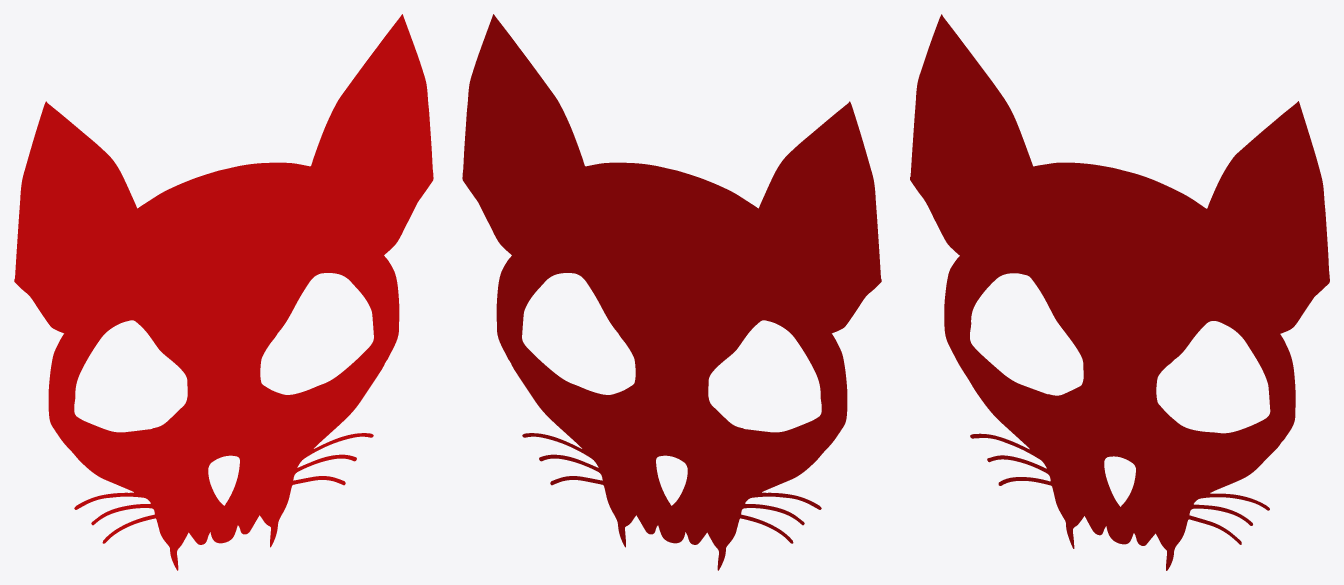
The model's file is virus.glb.
The picture shows the model from 3 angles, left to right: view 1: azimuth 30°, elevation 25°; view 2: azimuth 150°, elevation 25°; view 3: azimuth 330°, elevation 25°; orthographic projection.
Parts seen in each view (by area): view 1: Curve; view 2: Curve; view 3: Curve.
Part boxes in pixels (bbox=[...]): Curve: bbox=[14, 14, 433, 570]; Curve: bbox=[462, 14, 881, 570]; Curve: bbox=[910, 14, 1329, 570].
Bounding box in the file's own units: 3.36 × 3.85 × 0.
